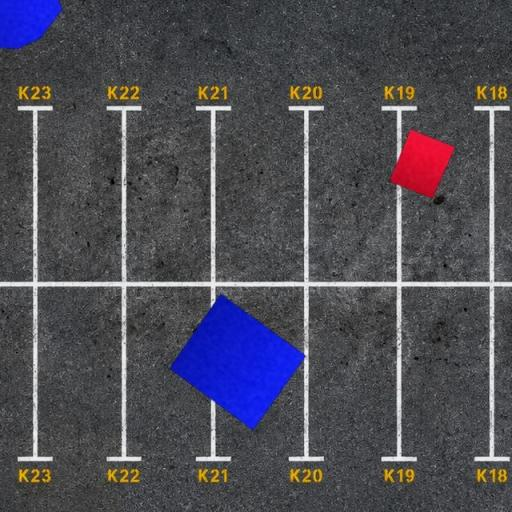BLUE_SQUARE: (169, 294, 307, 431)
RED_SQUARE: (389, 129, 455, 200)
